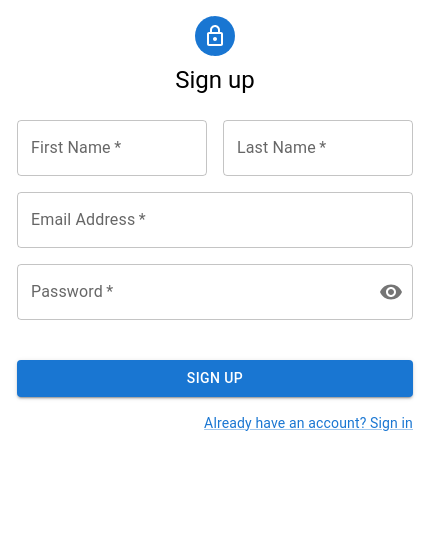
Test: <SignUp /> › Form validation › Submitting invalid first name and last name › When first name and last name are less than 2 characters › First name and last name are validated & error messages are rendered
In the field labelled "First Name": {"x": 112, "y": 148} [17,120,207,176], type "a"
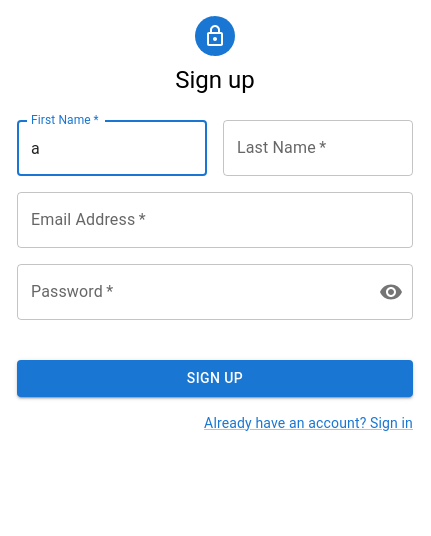
In the field labelled "Last Name": {"x": 318, "y": 148} [223,120,413,176], type "b"
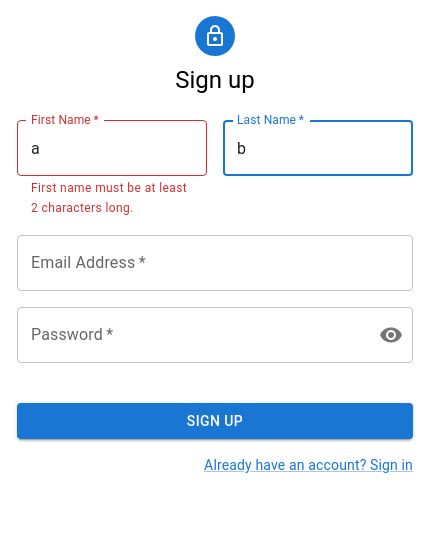
Click the button "Sign Up": {"x": 215, "y": 421} [17,403,413,439]
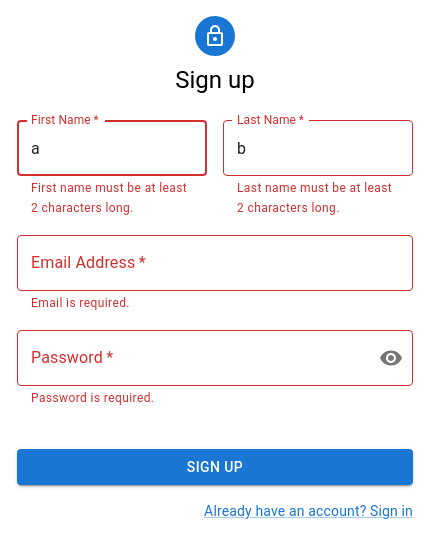
Expected: the text "First name must be at least 2 characters long." is shown, [31,179,193,219]
Expected: the text "Last name must be at least 2 characters long." is shown, [237,179,399,219]
